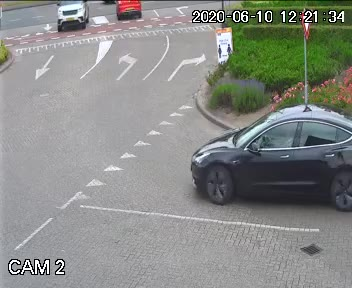car: (170, 91, 352, 219), (52, 0, 95, 39), (113, 0, 141, 24)
